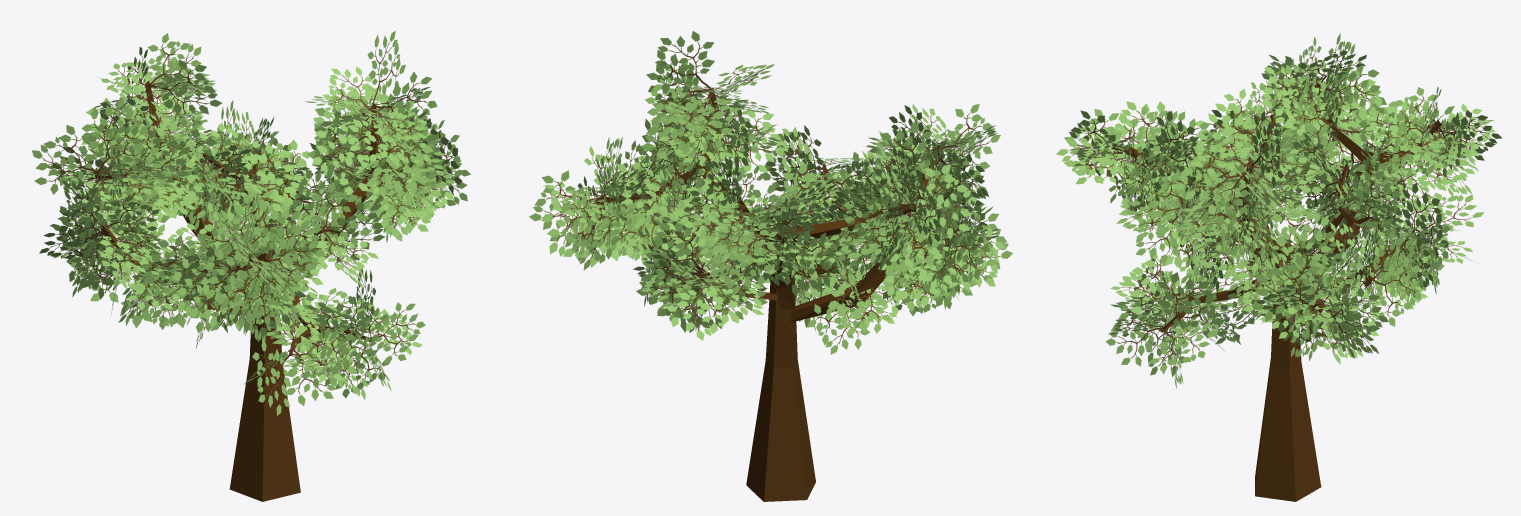
File: Tree.glb
3 renders of one model, left to right at view 1: azimuth 30°, elevation 25°; view 2: azimuth 150°, elevation 25°; view 3: azimuth 270°, elevation 25°, orthographic. The views are drawn at different scales.
Parts seen in each view (by area): view 1: Tree_green01_Cube.007; view 2: Tree_green01_Cube.007; view 3: Tree_green01_Cube.007.
Part boxes in pixels (<box>): Tree_green01_Cube.007: <box>31,30,470,501</box>; Tree_green01_Cube.007: <box>529,31,1012,501</box>; Tree_green01_Cube.007: <box>1056,33,1502,501</box>.
Bounding box in the file's own units: 14.11 × 13.16 × 12.32.
Materials: 2 (1 with a texture image).
